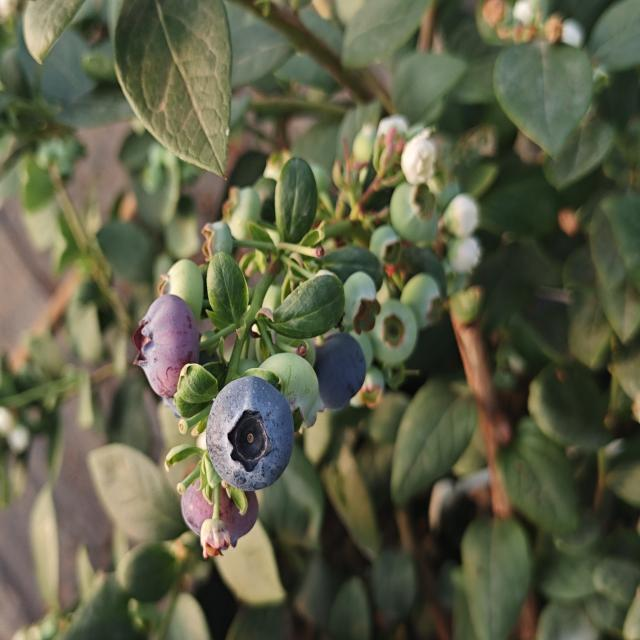ripe: (204, 374, 296, 494), (130, 292, 202, 405), (312, 330, 369, 414)
